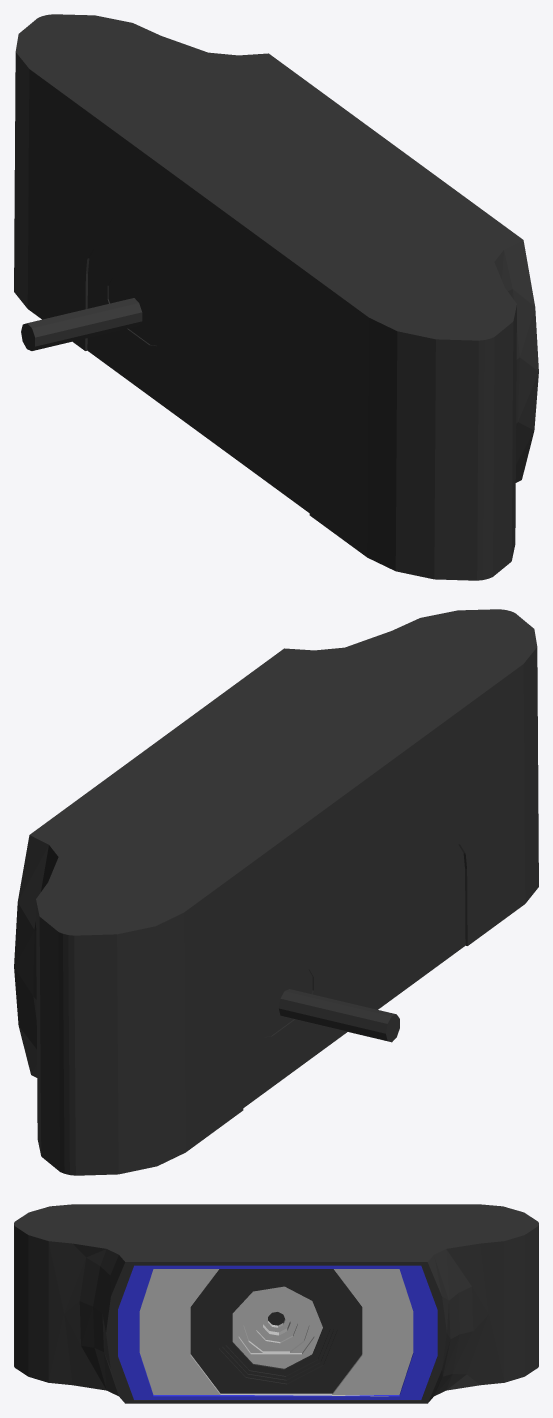
File: camera.dae
The picture shows the model from 3 angles, top to bottom: view 1: azimuth 30°, elevation 25°; view 2: azimuth 150°, elevation 25°; view 3: azimuth 270°, elevation 25°; orthographic projection. The views are drawn at different scales.
Parts seen in each view (by area): view 1: camera; view 2: camera; view 3: camera.
Part boxes in pixels (bbox=[...]): camera: bbox=[14, 14, 538, 580]; camera: bbox=[14, 609, 538, 1175]; camera: bbox=[14, 1204, 538, 1403].
Size of the model in its own units: 0.0365 by 0.0926 by 0.0279.
